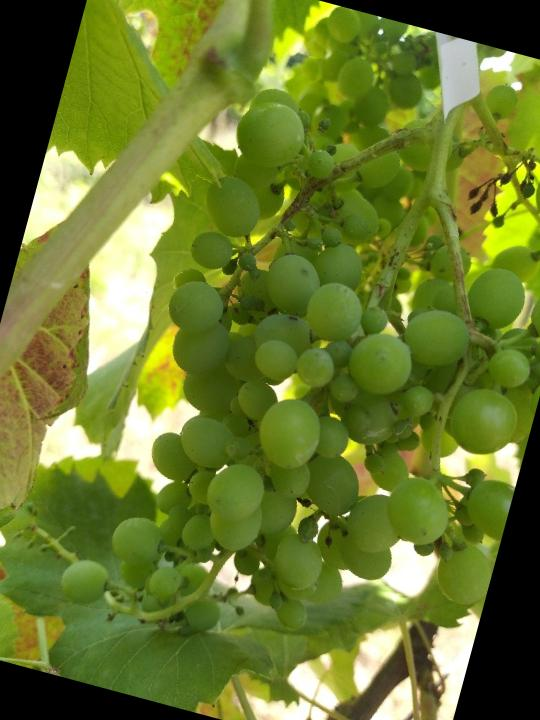grape: (46, 62, 540, 720)
